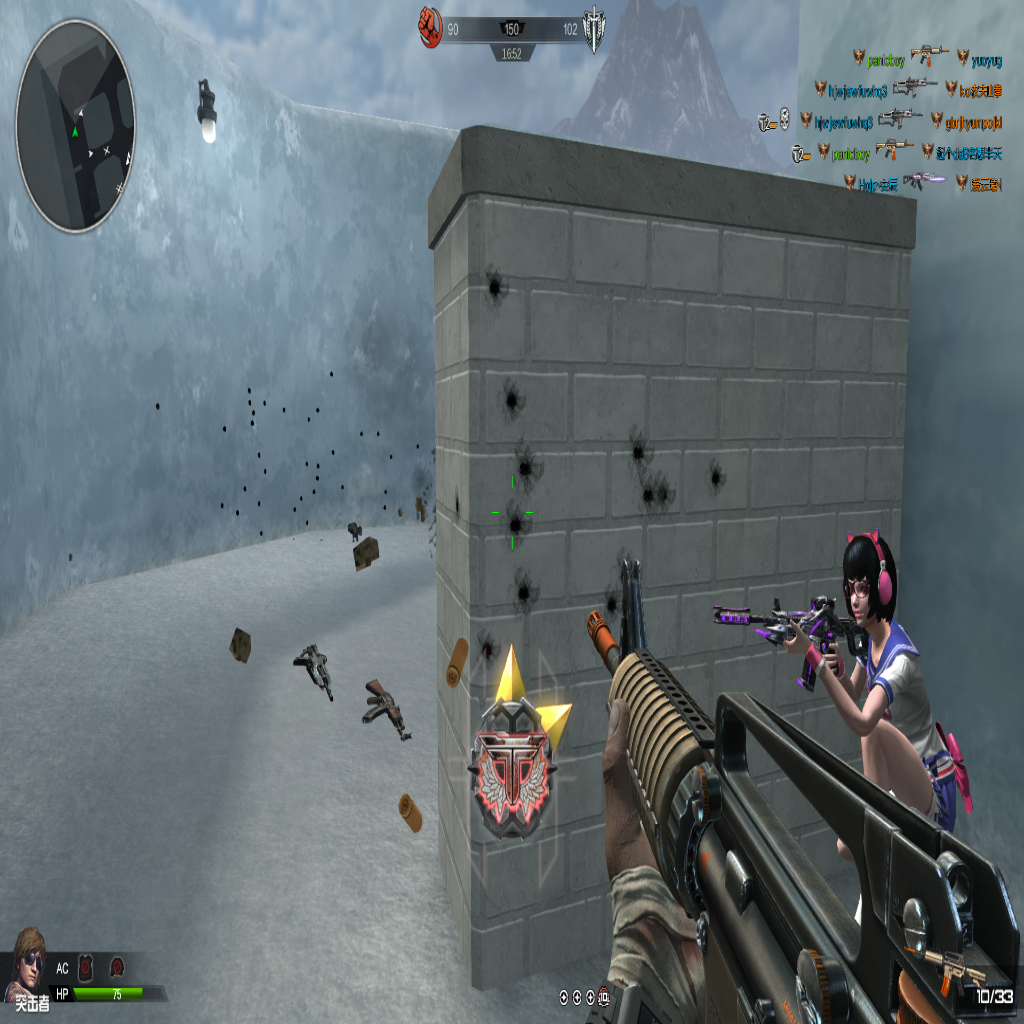tt: (791, 521, 973, 864)
